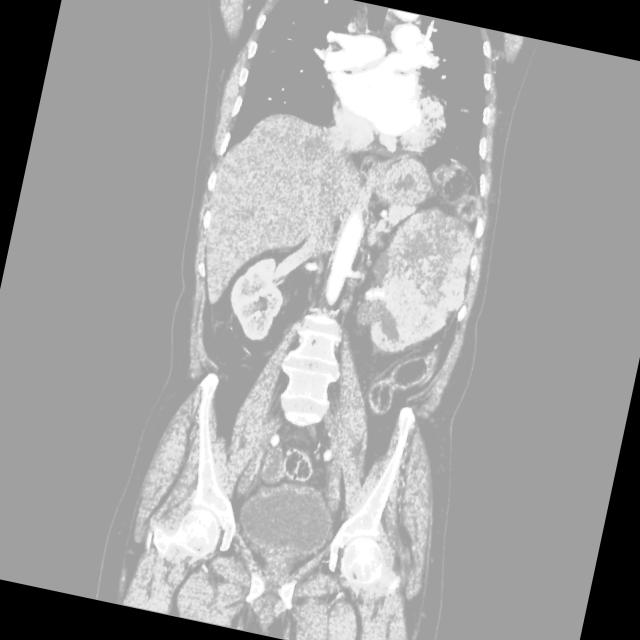TUMOR: (105, 146, 597, 477)
